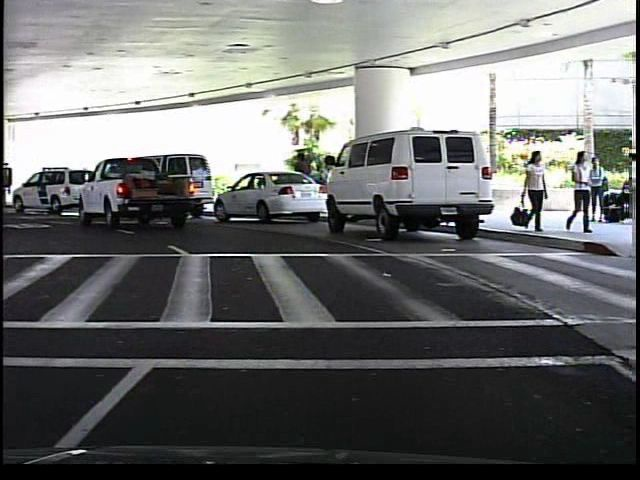person: (520, 146, 550, 232), (568, 149, 597, 237), (614, 151, 637, 221), (291, 151, 316, 213), (591, 155, 612, 226)
